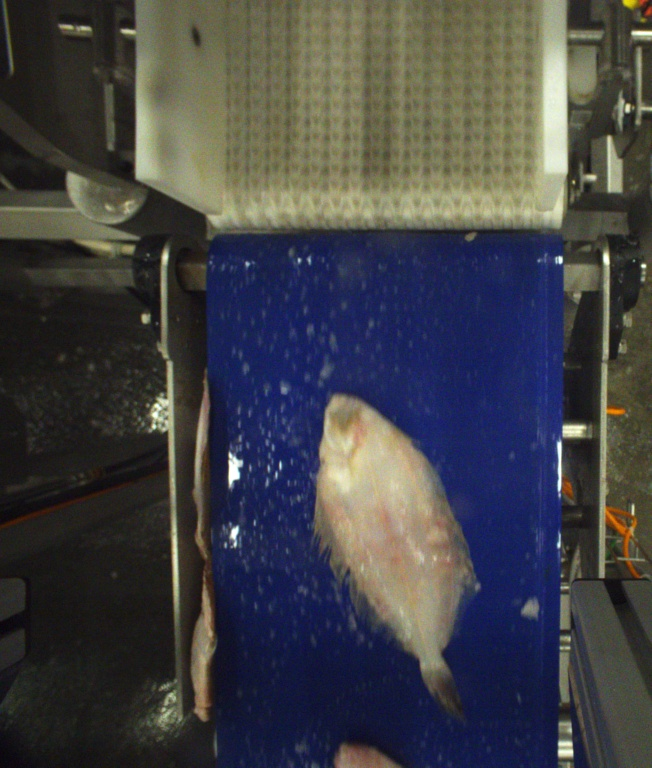WIT: (312, 390, 476, 726)
